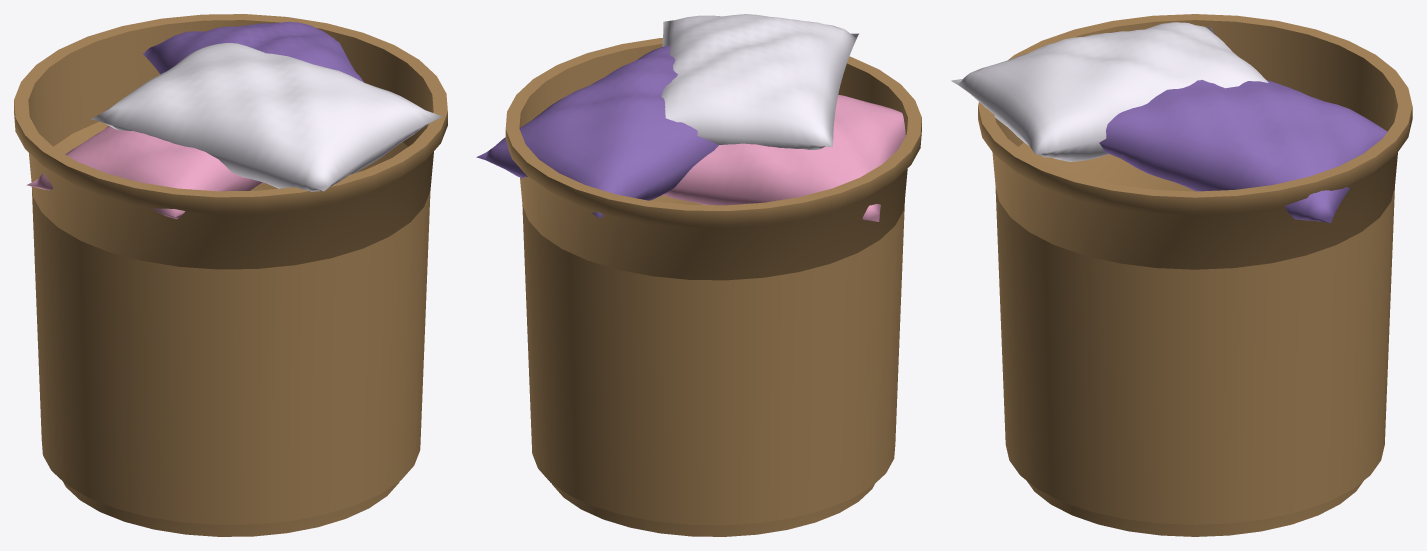
File: laundry_basket.fbx
3 views of the same model, side by side, from view 1: azimuth 30°, elevation 25°; view 2: azimuth 150°, elevation 25°; view 3: azimuth 270°, elevation 25° (orthographic). The views are drawn at different scales.
Visible parts, largest first — view 1: laundry_basket; view 2: laundry_basket; view 3: laundry_basket.
Part boxes in pixels (x1=…): laundry_basket: x1=14, y1=14, x2=447, y2=536; laundry_basket: x1=476, y1=14, x2=921, y2=536; laundry_basket: x1=951, y1=14, x2=1412, y2=536.
Bounding box in the file's own units: 0.4244 × 0.4491 × 0.4509.
